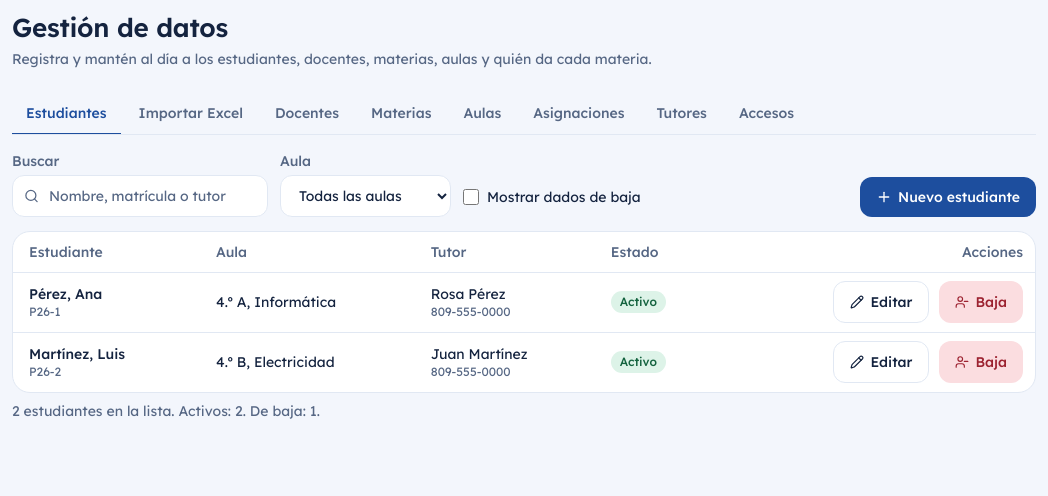
Gestión de datos: estudiantes › lista a los activos y oculta a los dados de baja hasta pedirlos
The image size is (1048, 496).
Expected: the text "Núñez, Eva" is not shown
Click the checkbox labelled "Mostrar dados de baja": {"x": 471, "y": 196} 463,188 -> 479,204
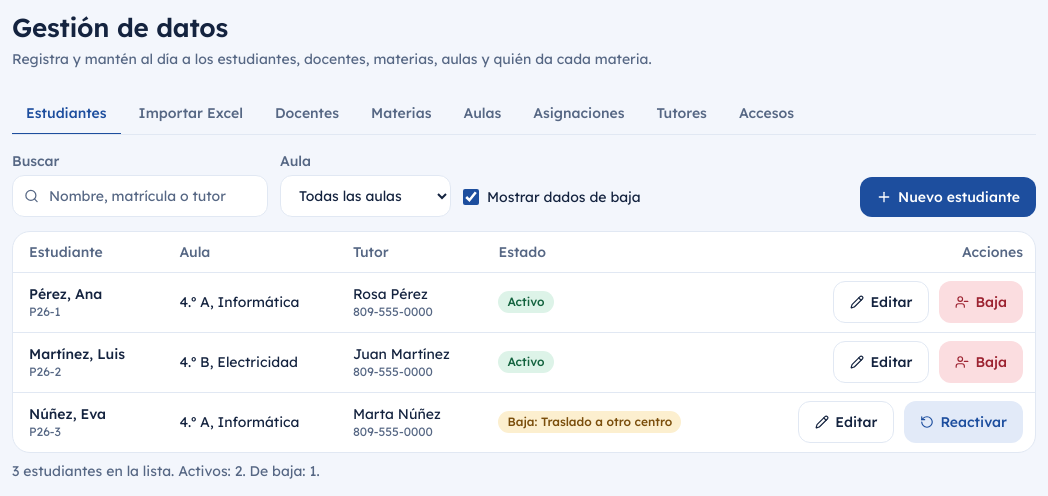
Now the text "Núñez, Eva" is shown, box 29,405 -> 106,423
Now the text "Baja: Traslado a otro centro" is shown, box 498,411 -> 681,433
